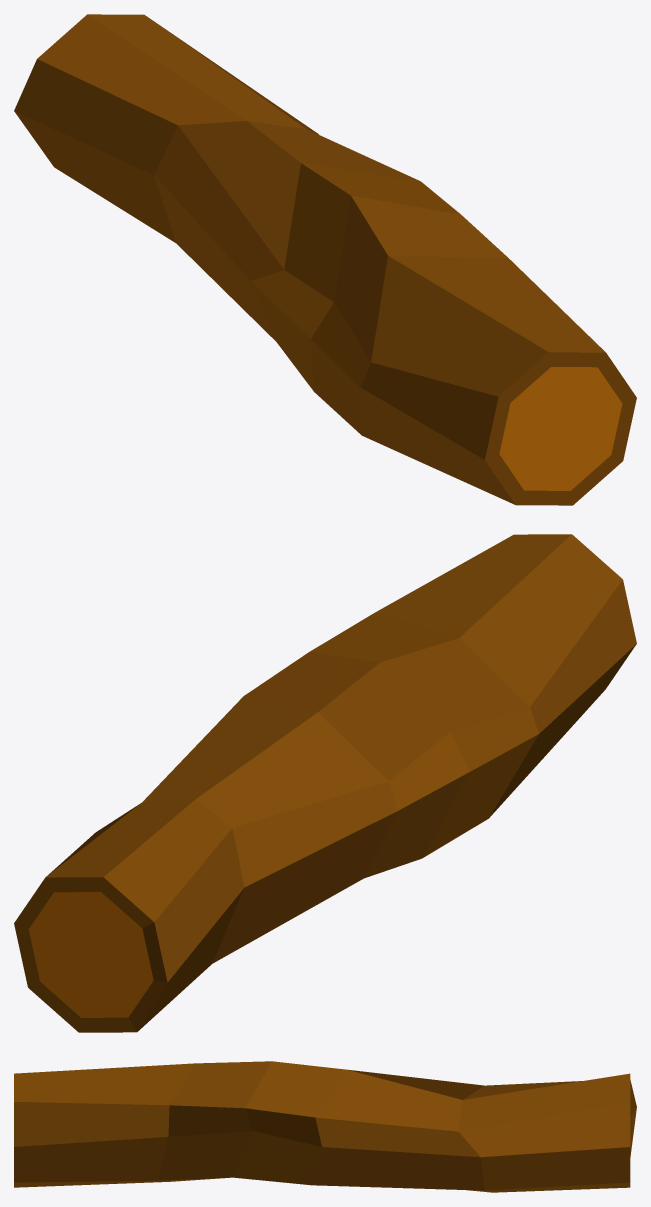
File: Log.fbx
The picture shows the model from 3 angles, top to bottom: view 1: azimuth 30°, elevation 25°; view 2: azimuth 150°, elevation 25°; view 3: azimuth 270°, elevation 25°; orthographic projection. The views are drawn at different scales.
Visible parts, largest first — view 1: Cylinder; view 2: Cylinder; view 3: Cylinder.
Boxes of the visible parts, <box> form: Cylinder: <box>14,14,636,505</box>; Cylinder: <box>14,534,636,1032</box>; Cylinder: <box>14,1061,636,1192</box>.
Bounding box in the file's own units: 310 × 278 × 1269.
